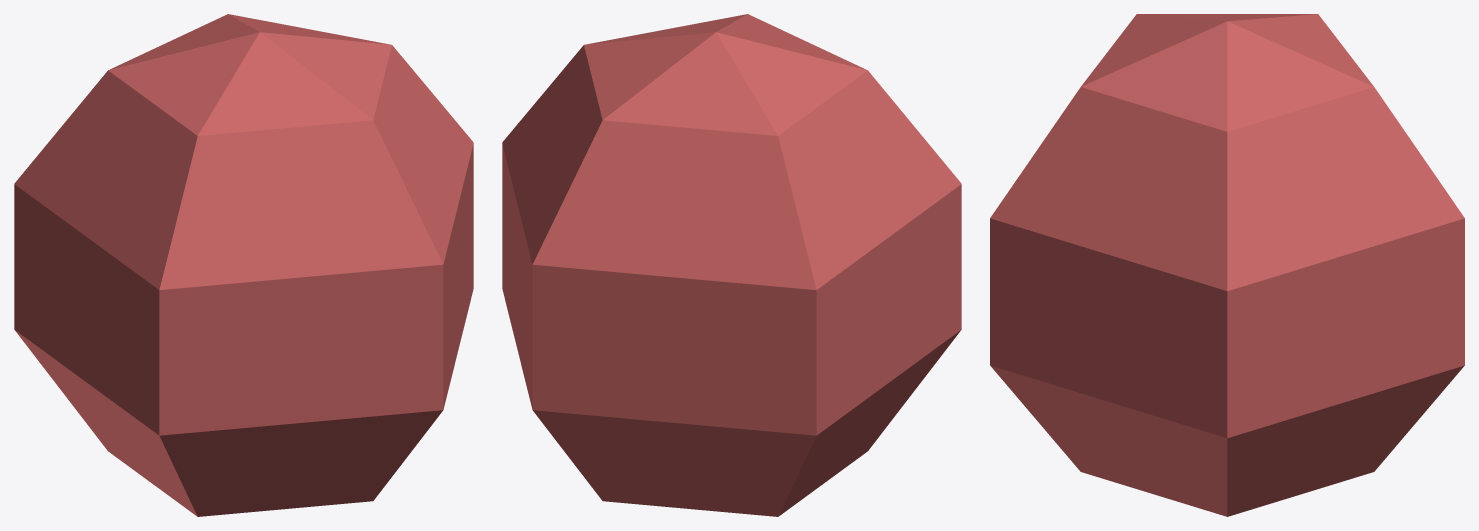
The model's file is salmonRoeBall.fbx.
The picture shows the model from 3 angles, left to right: view 1: azimuth 30°, elevation 25°; view 2: azimuth 150°, elevation 25°; view 3: azimuth 270°, elevation 25°; orthographic projection.
Visible parts, largest first — view 1: pasted__pasted__pasted__pasted__pSphere1; view 2: pasted__pasted__pasted__pasted__pSphere1; view 3: pasted__pasted__pasted__pasted__pSphere1.
Part boxes in pixels (x1,y1,x2,y2): pasted__pasted__pasted__pasted__pSphere1: (14, 14, 473, 516); pasted__pasted__pasted__pasted__pSphere1: (502, 14, 961, 516); pasted__pasted__pasted__pasted__pSphere1: (990, 14, 1464, 516).
Bounding box in the file's own units: 0.5192 × 0.6035 × 0.5459.
